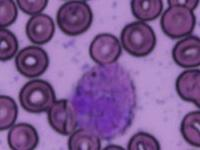E: (68, 61, 138, 138)
